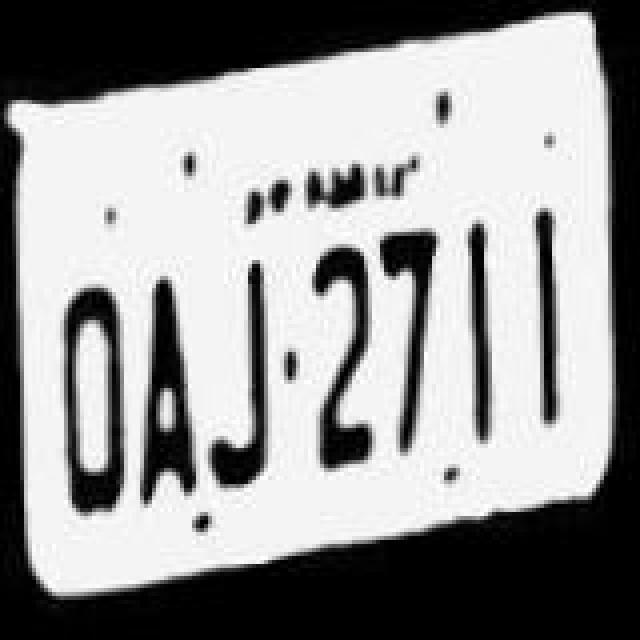1: (512, 198, 576, 462), (452, 212, 516, 460)
2: (296, 234, 388, 494)
7: (370, 216, 454, 464)
A: (134, 262, 214, 518)
J: (200, 258, 292, 510)
O: (58, 276, 146, 536)
